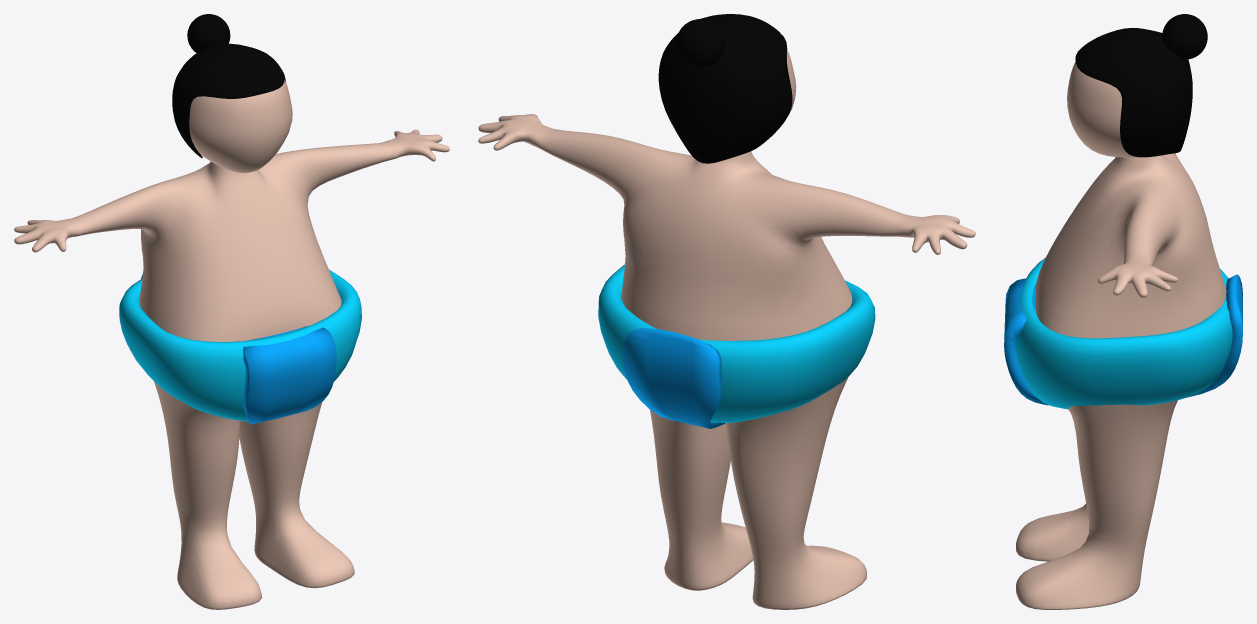
File: semi sumo 4.fbx
3 renders of one model, left to right at view 1: azimuth 30°, elevation 25°; view 2: azimuth 150°, elevation 25°; view 3: azimuth 270°, elevation 25°, orthographic. The views are drawn at different scales.
Visible parts, largest first — view 1: Cube.024, Cube.023, Cube.022, Cube.025, Cube.021, Sphere.004; view 2: Cube.024, Cube.023, Cube.021, Cube.022, Sphere.004; view 3: Cube.024, Cube.023, Cube.021, Cube.025, Cube.022, Sphere.004.
Part boxes in pixels (left/top/right/bottom): Cube.024: left=14, top=129, right=449, bottom=609; Cube.023: left=119, top=269, right=361, bottom=421; Cube.022: left=141, top=274, right=336, bottom=424; Cube.025: left=189, top=80, right=292, bottom=173; Cube.021: left=172, top=43, right=285, bottom=158; Sphere.004: left=187, top=14, right=230, bottom=52; Cube.024: left=478, top=114, right=975, bottom=609; Cube.023: left=598, top=264, right=875, bottom=422; Cube.021: left=658, top=14, right=792, bottom=163; Cube.022: left=623, top=328, right=724, bottom=428; Sphere.004: left=676, top=19, right=724, bottom=68; Cube.024: left=1016, top=153, right=1226, bottom=609; Cube.023: left=1015, top=258, right=1232, bottom=409; Cube.021: left=1075, top=28, right=1192, bottom=157; Cube.025: left=1067, top=62, right=1137, bottom=157; Cube.022: left=1004, top=274, right=1242, bottom=405; Sphere.004: left=1162, top=14, right=1207, bottom=59.
Bounding box in the file's own units: 209 × 244 × 95.39.
